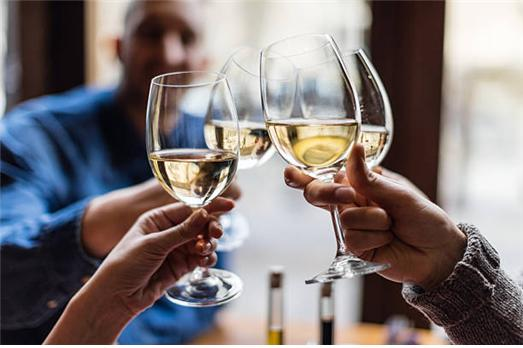alcohol: (260, 32, 389, 283), (146, 71, 243, 308), (202, 49, 299, 251), (297, 50, 390, 198)
